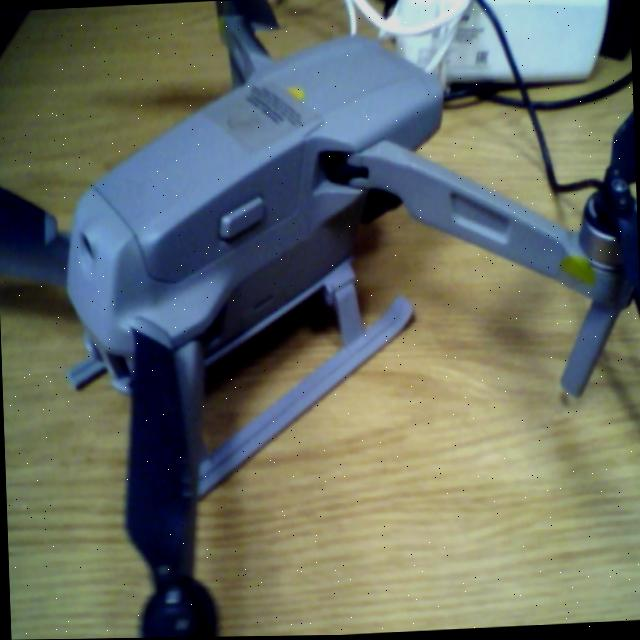drone: (0, 7, 640, 598)
